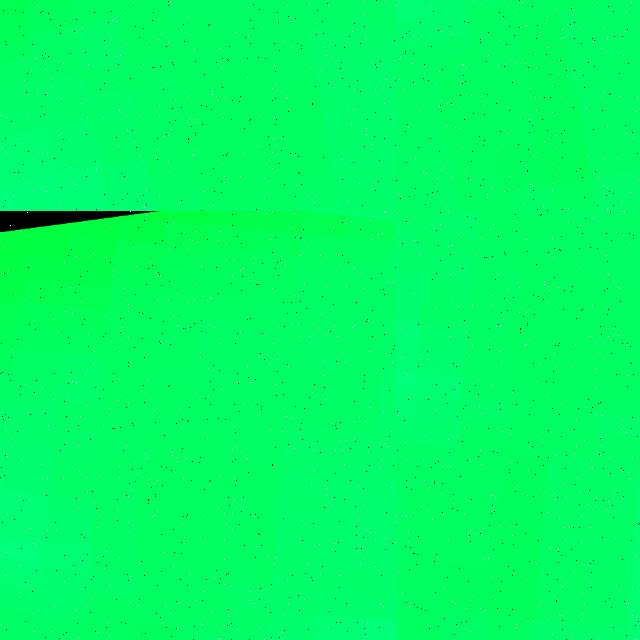0: (0, 211, 396, 640)
drone: (396, 211, 640, 640)
